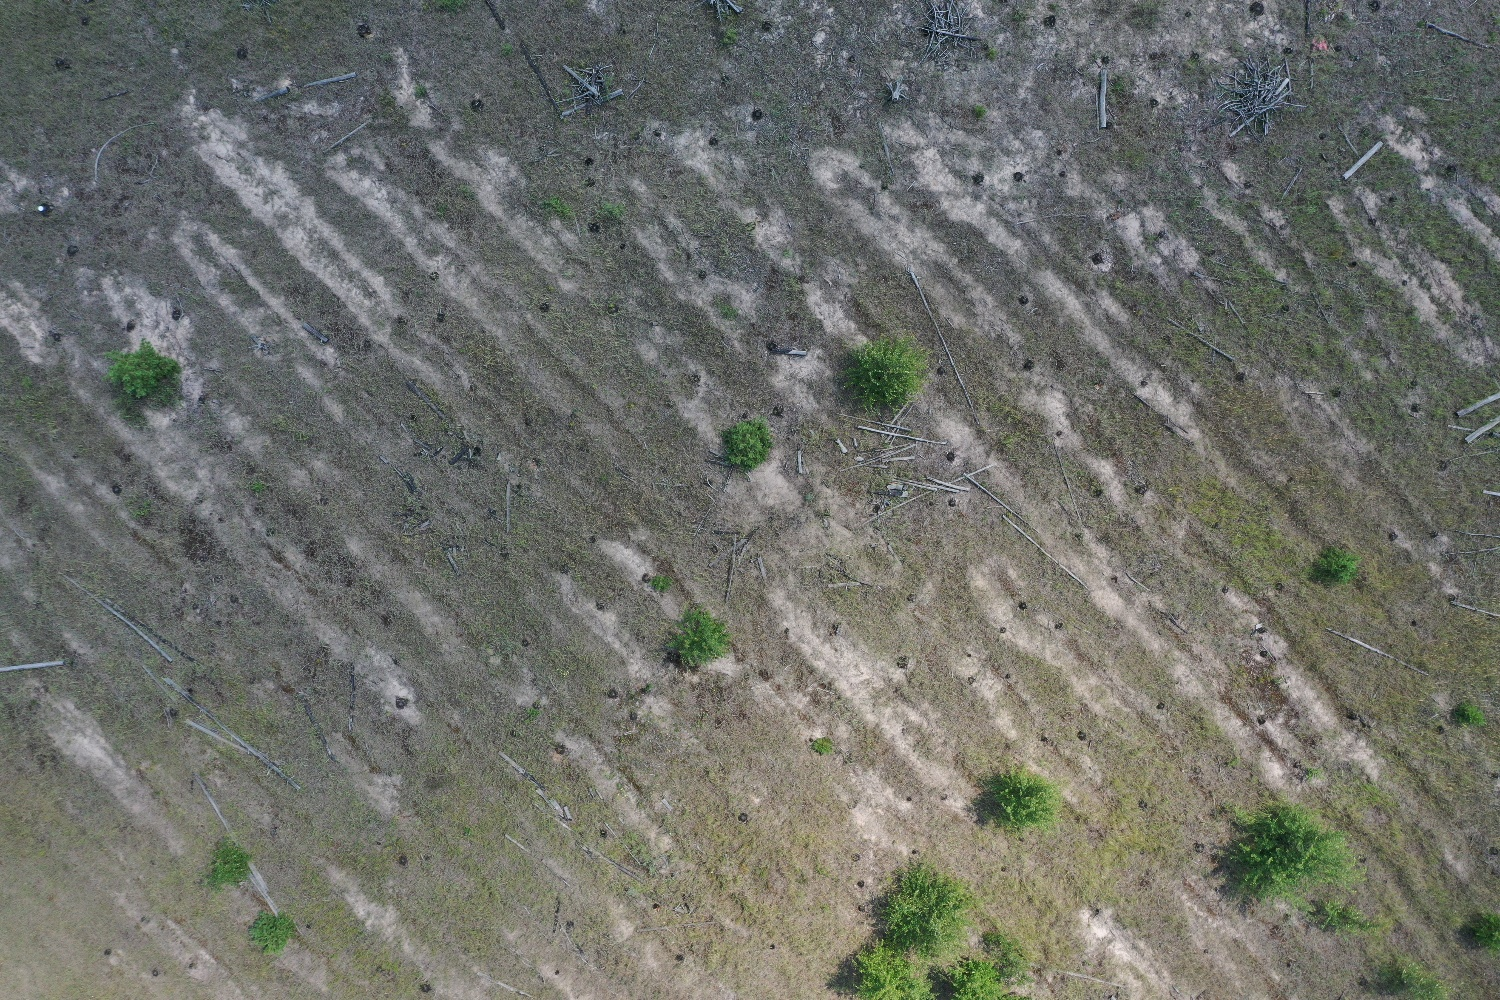branches: (1210, 55, 1306, 141), (912, 1, 982, 65), (557, 64, 624, 121)
